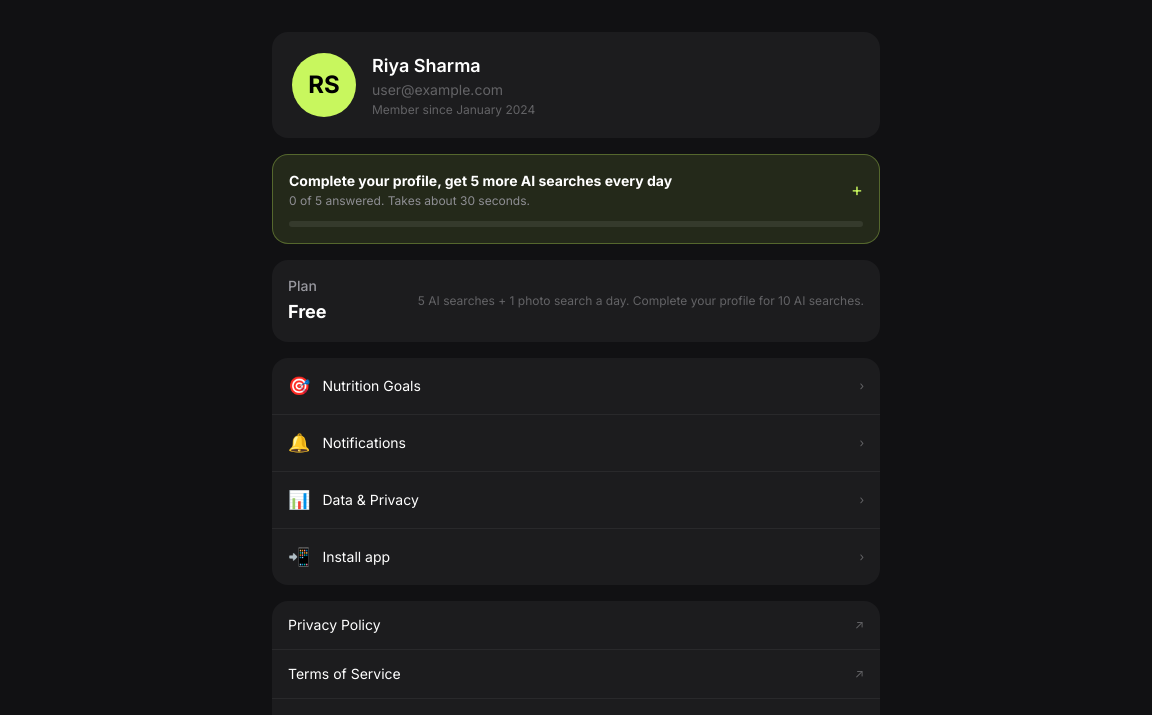
NutritionGoalsModal › shows current goal values in inputs (from fetched profile)
Expected: the text "Riya Sharma" is shown, [372,55,481,76]
Click the text "Nutrition Goals". click: click(372, 386)
box: [322,377,421,394]
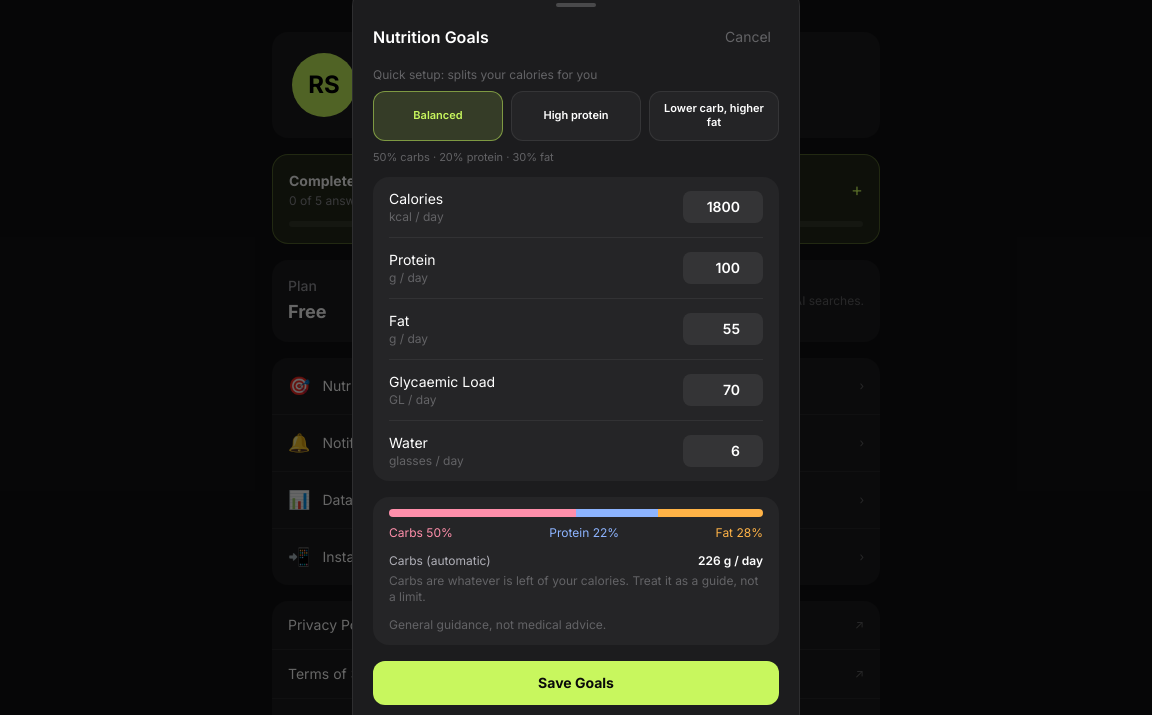
Result: the button "Save Goals" is shown at [373,661,779,705]
Result: the number field showing "1800" in the row of "kcal / day" is shown at [683,191,763,223]
Result: the 2nd number field showing "100" is shown at [683,252,763,284]
